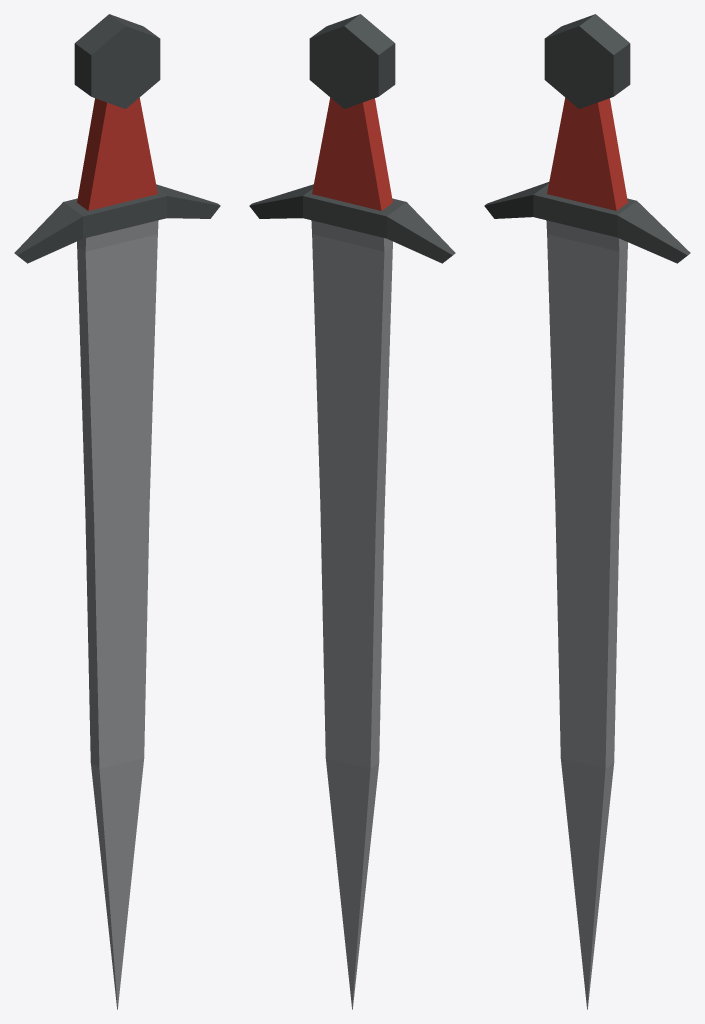
File: Sword_1_Red.fbx
The picture shows the model from 3 angles, left to right: view 1: azimuth 30°, elevation 25°; view 2: azimuth 150°, elevation 25°; view 3: azimuth 330°, elevation 25°; orthographic projection.
Parts seen in each view (by area): view 1: Sword_1_Red_Part_1, Sword_1_Red_Part_2, Sword_1_Red_Part_3; view 2: Sword_1_Red_Part_1, Sword_1_Red_Part_2, Sword_1_Red_Part_3; view 3: Sword_1_Red_Part_1, Sword_1_Red_Part_2, Sword_1_Red_Part_3.
Boxes of the visible parts, <box> form: Sword_1_Red_Part_1: <box>77,220,158,1009</box>; Sword_1_Red_Part_2: <box>14,14,220,263</box>; Sword_1_Red_Part_3: <box>77,97,157,210</box>; Sword_1_Red_Part_1: <box>311,220,392,1009</box>; Sword_1_Red_Part_2: <box>249,14,455,263</box>; Sword_1_Red_Part_3: <box>312,97,392,210</box>; Sword_1_Red_Part_1: <box>546,220,627,1009</box>; Sword_1_Red_Part_2: <box>484,14,690,263</box>; Sword_1_Red_Part_3: <box>547,97,627,210</box>.
Size of the model in its own units: 25.61 by 119 by 4.32.
